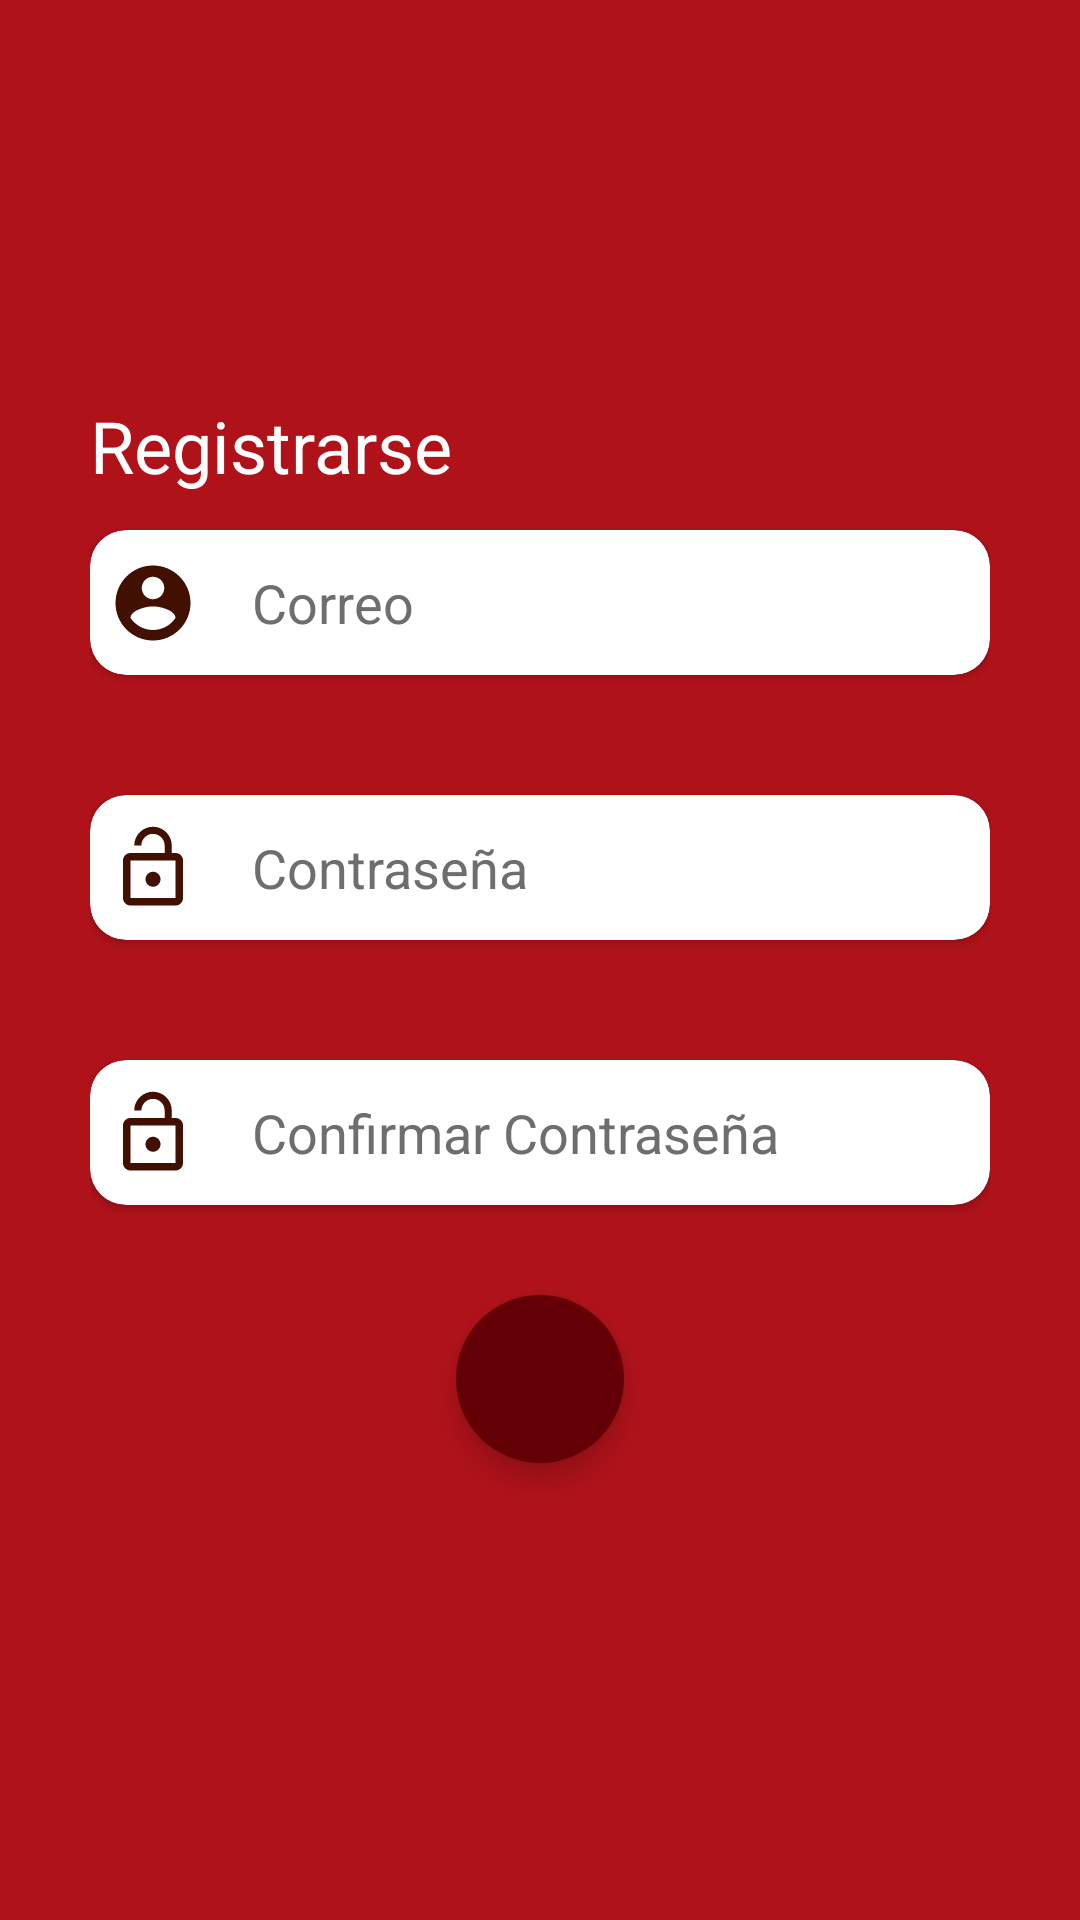

Screen size 1080x1920. Icon name, then its box in pixels as (x1, y1, x2, y2):
contrasena: (123, 826, 183, 906), (123, 1091, 183, 1171)
usuario: (115, 565, 191, 641)
